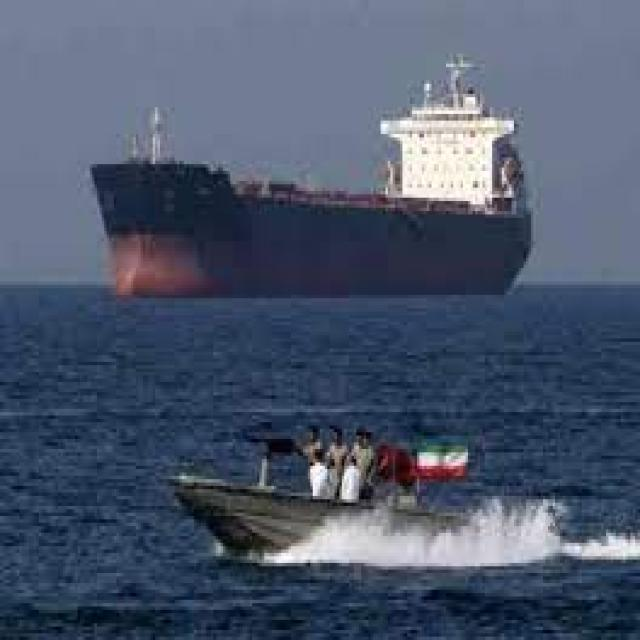cargoship: (84, 78, 540, 297)
houseboat: (174, 418, 552, 566)
